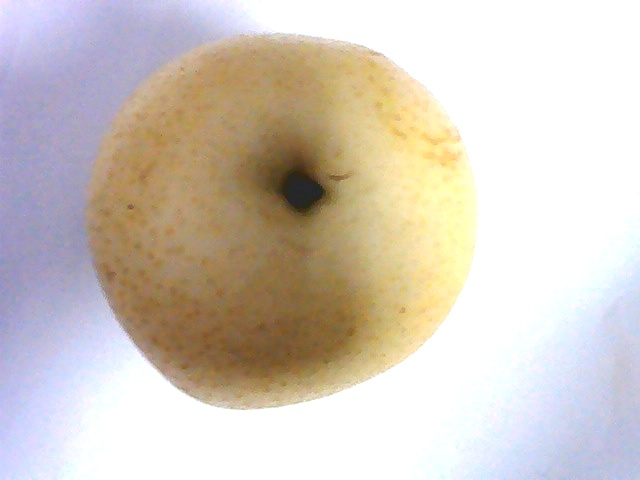pear: (89, 29, 473, 403)
